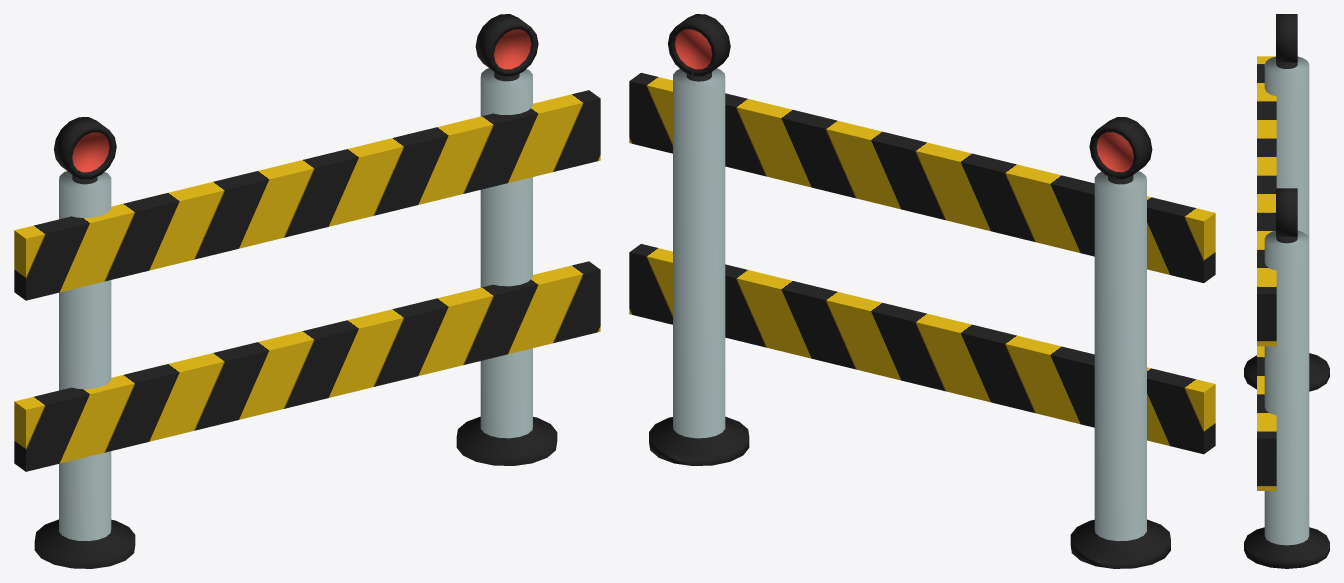
The model's file is obstacle-block-B.fbx.
3 renders of one model, left to right at view 1: azimuth 30°, elevation 25°; view 2: azimuth 150°, elevation 25°; view 3: azimuth 270°, elevation 25°, orthographic. The views are drawn at different scales.
Visible parts, largest first — view 1: obstacle-block-B; view 2: obstacle-block-B; view 3: obstacle-block-B.
Boxes of the visible parts, bbox=[...] form: obstacle-block-B: bbox=[14, 14, 600, 568]; obstacle-block-B: bbox=[629, 14, 1215, 568]; obstacle-block-B: bbox=[1244, 14, 1329, 568].
Size of the model in its own units: 1.96 by 1.38 by 0.299.
